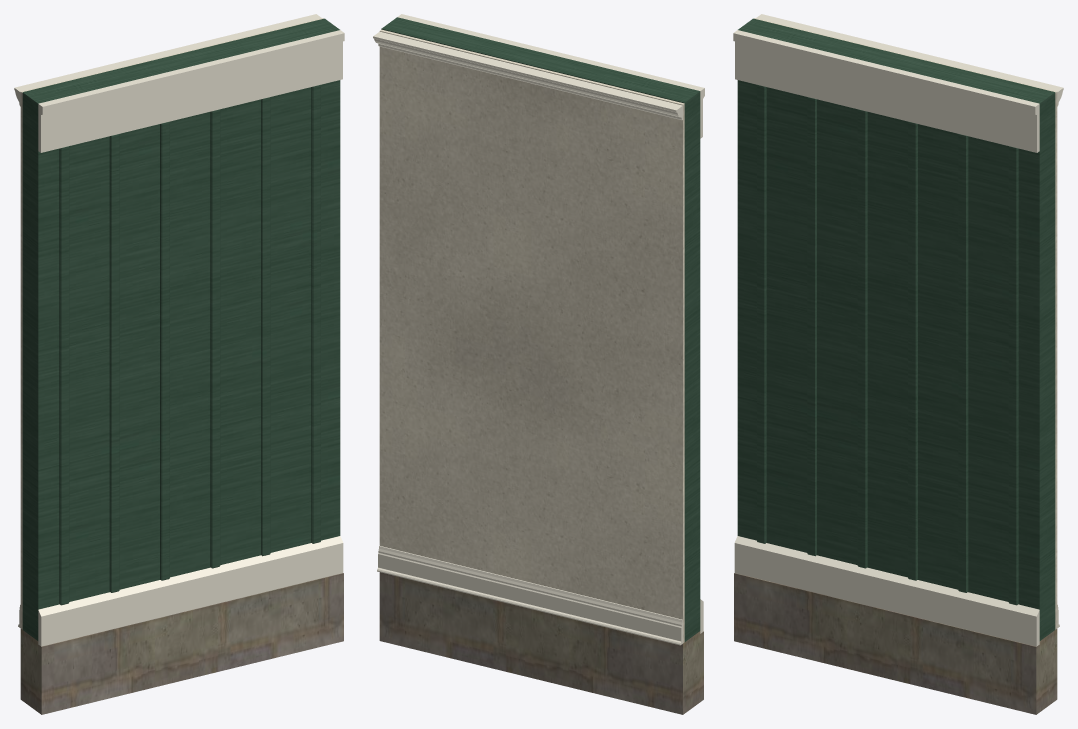
The model's file is w_plain.glb.
3 renders of one model, left to right at view 1: azimuth 30°, elevation 25°; view 2: azimuth 150°, elevation 25°; view 3: azimuth 330°, elevation 25°, orthographic.
Parts seen in each view (by area): view 1: w_plain_boards, w_plain_trim, w_plain_stone, w_plain_plaster, molduras; view 2: w_plain_plaster, w_plain_stone, w_plain_boards, molduras, w_plain_trim; view 3: w_plain_boards, w_plain_trim, w_plain_stone, w_plain_plaster, molduras.
Part boxes in pixels (<box>): w_plain_boards: <box>22,18,340,640</box>; w_plain_trim: <box>38,30,344,646</box>; w_plain_stone: <box>20,573,343,714</box>; w_plain_plaster: <box>20,18,323,629</box>; molduras: <box>14,14,321,627</box>; w_plain_plaster: <box>379,29,684,643</box>; w_plain_stone: <box>379,572,703,714</box>; w_plain_boards: <box>381,17,700,641</box>; molduras: <box>373,31,682,645</box>; w_plain_trim: <box>397,14,704,633</box>; w_plain_boards: <box>737,18,1055,640</box>; w_plain_trim: <box>733,30,1039,646</box>; w_plain_stone: <box>734,573,1057,714</box>; w_plain_plaster: <box>754,18,1057,629</box>; molduras: <box>756,14,1063,627</box>.
Size of the model in its own units: 2 by 3.85 by 0.325.
4 materials, 3 textured.
